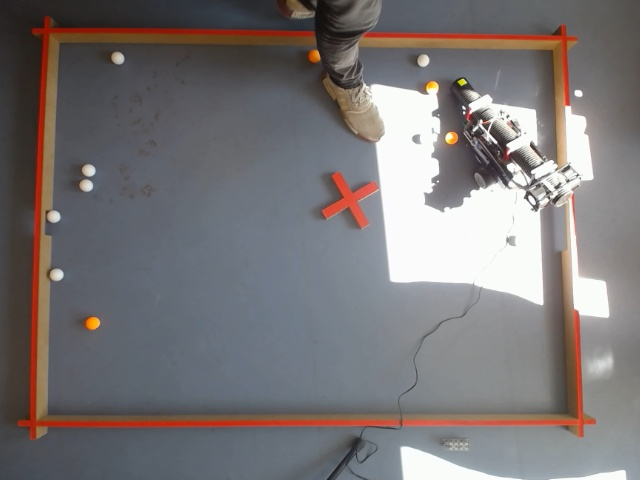orange: (82, 314, 103, 333), (308, 49, 321, 63)
white: (77, 167, 98, 194), (77, 162, 97, 190), (78, 161, 97, 181), (596, 469, 629, 480), (77, 176, 96, 195), (47, 266, 67, 284), (109, 49, 126, 68), (46, 208, 62, 225), (416, 53, 429, 68)
